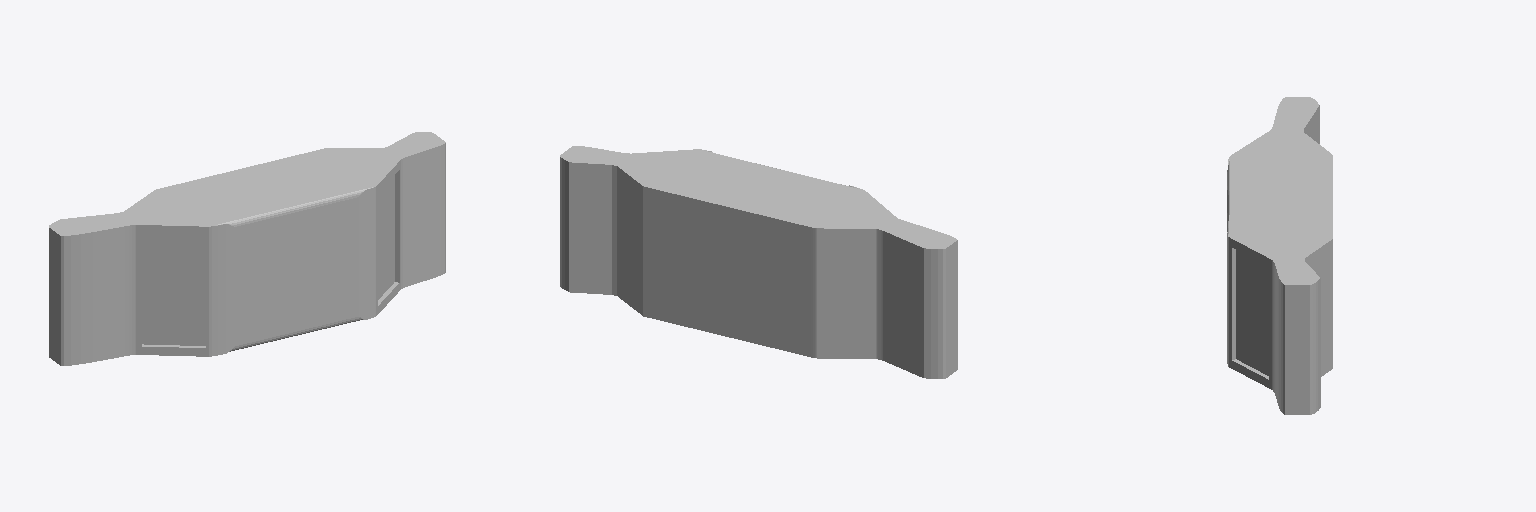
File: car.obj
3 renders of one model, left to right at view 1: azimuth 30°, elevation 25°; view 2: azimuth 150°, elevation 25°; view 3: azimuth 270°, elevation 25°, orthographic.
Visible parts, largest first — view 1: Cube; view 2: Cube; view 3: Cube.
Boxes of the visible parts, box(x1,y1,x2,y2) form: Cube: box(49, 132, 445, 365); Cube: box(560, 146, 957, 378); Cube: box(1227, 97, 1332, 414).
Size of the model in its own units: 17 by 5.49 by 4.05.